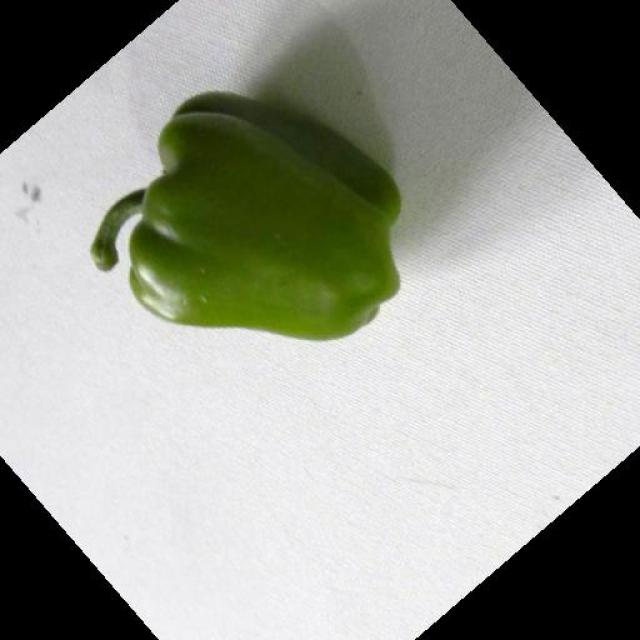Fresh_Capsicum: (154, 107, 413, 367)
